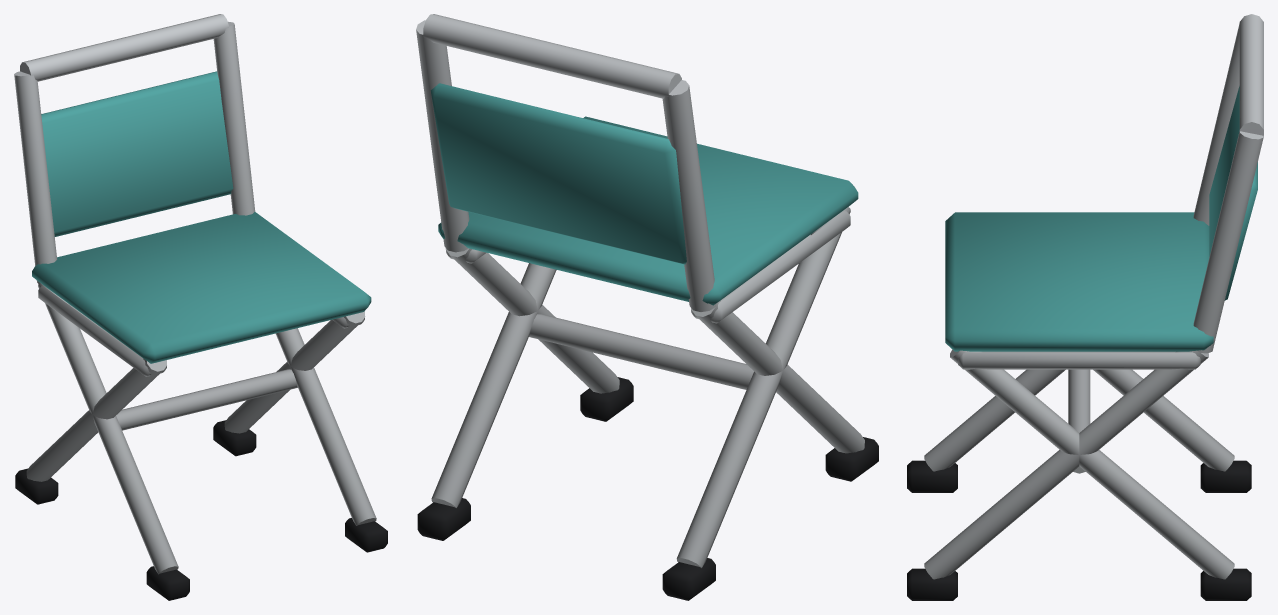
The model's file is SM_FoldingChair_01.glb.
3 views of the same model, side by side, from view 1: azimuth 30°, elevation 25°; view 2: azimuth 150°, elevation 25°; view 3: azimuth 270°, elevation 25° (orthographic). The views are drawn at different scales.
Visible parts, largest first — view 1: SM_FoldingChair_01; view 2: SM_FoldingChair_01; view 3: SM_FoldingChair_01.
Boxes of the visible parts, x1,y1,x2,y2 form: SM_FoldingChair_01: [14, 14, 387, 600]; SM_FoldingChair_01: [416, 14, 878, 600]; SM_FoldingChair_01: [907, 14, 1263, 600].
Bounding box in the file's own units: 0.46 × 0.82 × 0.559.
Materials: 1 (1 with a texture image).
